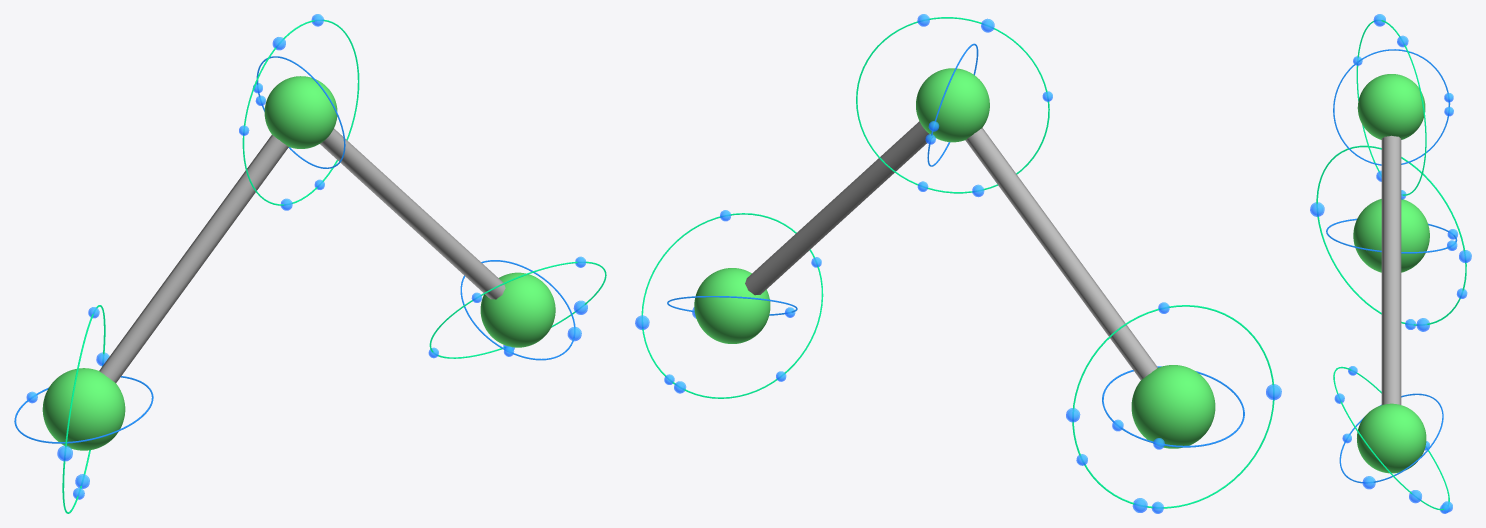
3 views of the same model, side by side, from view 1: azimuth 30°, elevation 25°; view 2: azimuth 150°, elevation 25°; view 3: azimuth 270°, elevation 25° (orthographic). The views are drawn at different scales.
Visible parts, largest first — view 1: O (×2), object 56, object 57, N, object 7, object 43, object 24; view 2: O (×2), object 56, object 57, N, object 24, object 7, object 43; view 3: O (×2), object 57, N, object 24, object 2, object 7, object 43, object 38, object 19.
Part boxes in pixels (left/top/right/bottom): O (×2): left=42, top=272, right=555, bottom=450; object 56: left=99, top=135, right=288, bottom=382; object 57: left=320, top=128, right=505, bottom=299; N: left=264, top=76, right=337, bottom=148; object 7: left=242, top=19, right=359, bottom=205; object 43: left=429, top=261, right=606, bottom=358; object 24: left=62, top=305, right=105, bottom=513; O (×2): left=694, top=268, right=1215, bottom=448; object 56: left=965, top=128, right=1157, bottom=379; object 57: left=745, top=121, right=929, bottom=295; N: left=916, top=68, right=989, bottom=142; object 24: left=1072, top=305, right=1274, bottom=508; object 7: left=856, top=17, right=1049, bottom=193; object 43: left=641, top=213, right=823, bottom=398; O (×2): left=1353, top=199, right=1429, bottom=473; object 57: left=1381, top=135, right=1401, bottom=404; N: left=1357, top=74, right=1425, bottom=139; object 24: left=1316, top=145, right=1466, bottom=325; object 2: left=1333, top=49, right=1450, bottom=165; object 7: left=1356, top=20, right=1426, bottom=195; object 43: left=1333, top=366, right=1449, bottom=510; object 38: left=1339, top=393, right=1443, bottom=483; object 19: left=1326, top=218, right=1457, bottom=253.
Bounding box in the file's own units: 12.71 × 8.97 × 3.29.
